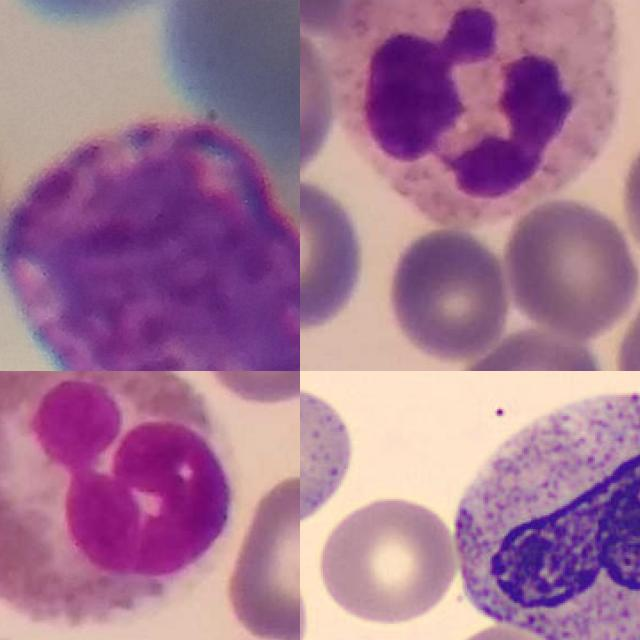Basophil: (0, 121, 300, 371)
Eosinophil: (0, 371, 235, 626)
Monocyte: (444, 374, 640, 640)
Neutrophil: (337, 0, 619, 227)
RBC: (314, 492, 462, 624), (300, 539, 312, 640)
